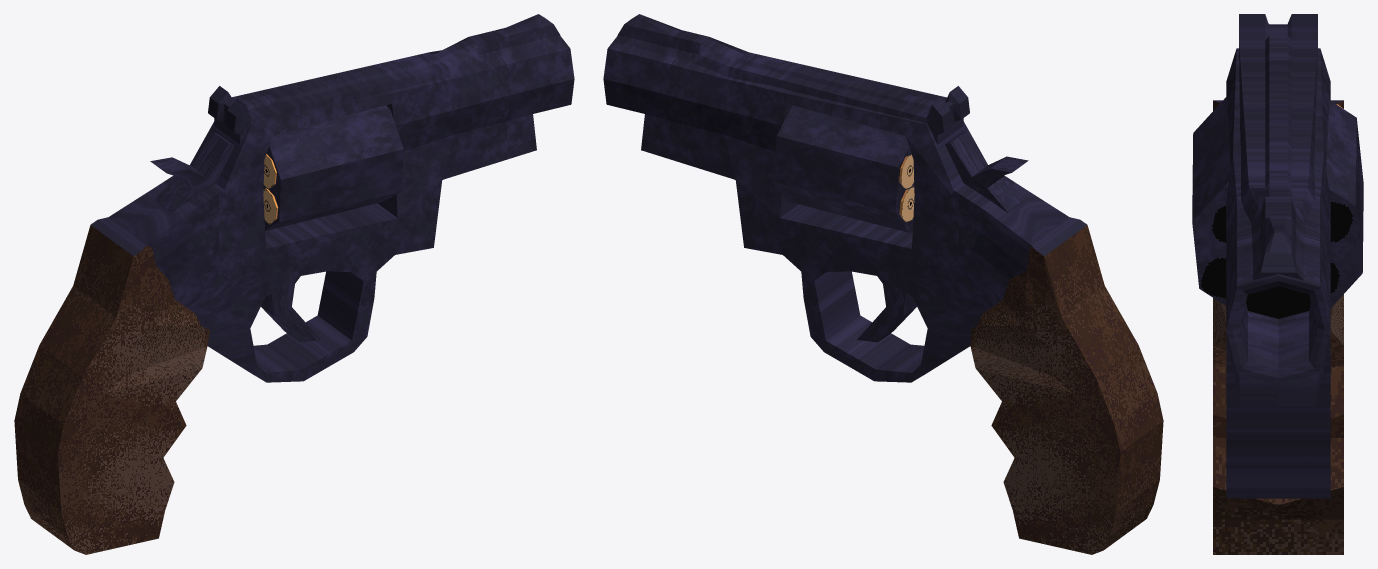
Rendered from Revolver.glb.
3 views of the same model, side by side, from view 1: azimuth 30°, elevation 25°; view 2: azimuth 150°, elevation 25°; view 3: azimuth 270°, elevation 25° (orthographic). The views are drawn at different scales.
Parts seen in each view (by area): view 1: Gun, Cylinder, Hammer, Trigger; view 2: Gun, Cylinder, Hammer, Trigger; view 3: Gun, Cylinder.
Boxes of the visible parts, x1,y1,x2,y2 form: Gun: (14, 14, 574, 554); Cylinder: (263, 105, 403, 230); Hammer: (150, 132, 234, 212); Trigger: (261, 276, 320, 342); Gun: (603, 14, 1163, 554); Cylinder: (773, 105, 914, 232); Hammer: (945, 130, 1028, 212); Trigger: (857, 276, 916, 342); Gun: (1213, 14, 1343, 554); Cylinder: (1192, 96, 1363, 307).
Size of the model in its own units: 4.55 by 3.41 by 0.8567.
7 materials, 6 textured.
